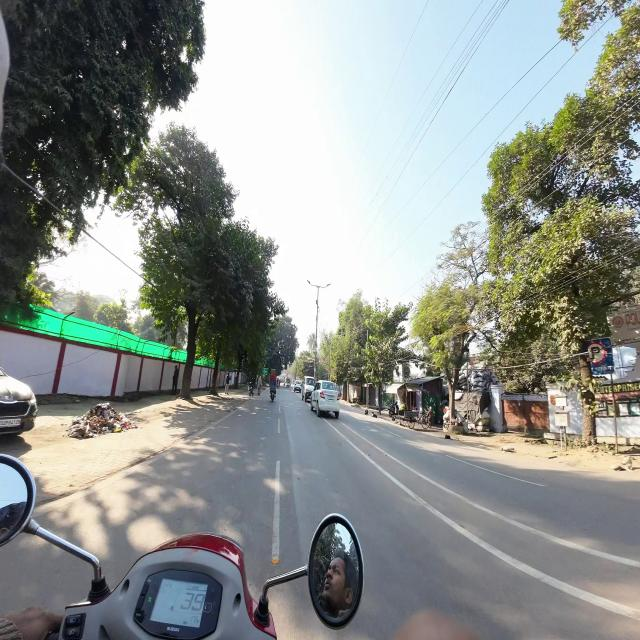Garbage: (74, 406, 130, 439)
